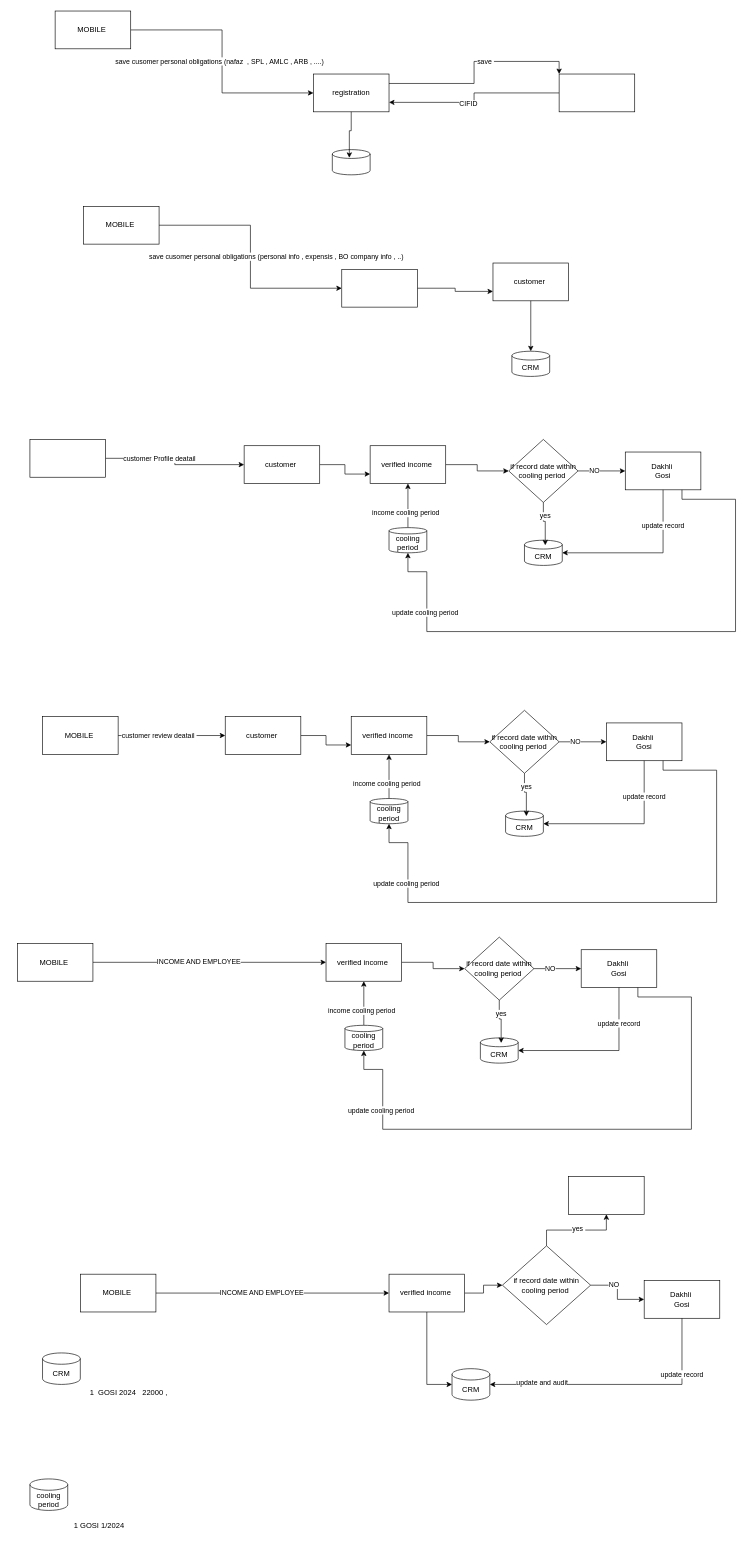
The diagram is 752 pixels wide and 1547 high, and some of its shapes have lost their labels. Each missing label, with the box of its shape:
branch: (29, 439, 106, 477)
integration: (341, 269, 417, 307)
kastle: (558, 73, 635, 112)
MW CRM: (332, 149, 370, 175)
return DB record: (568, 1176, 644, 1214)
